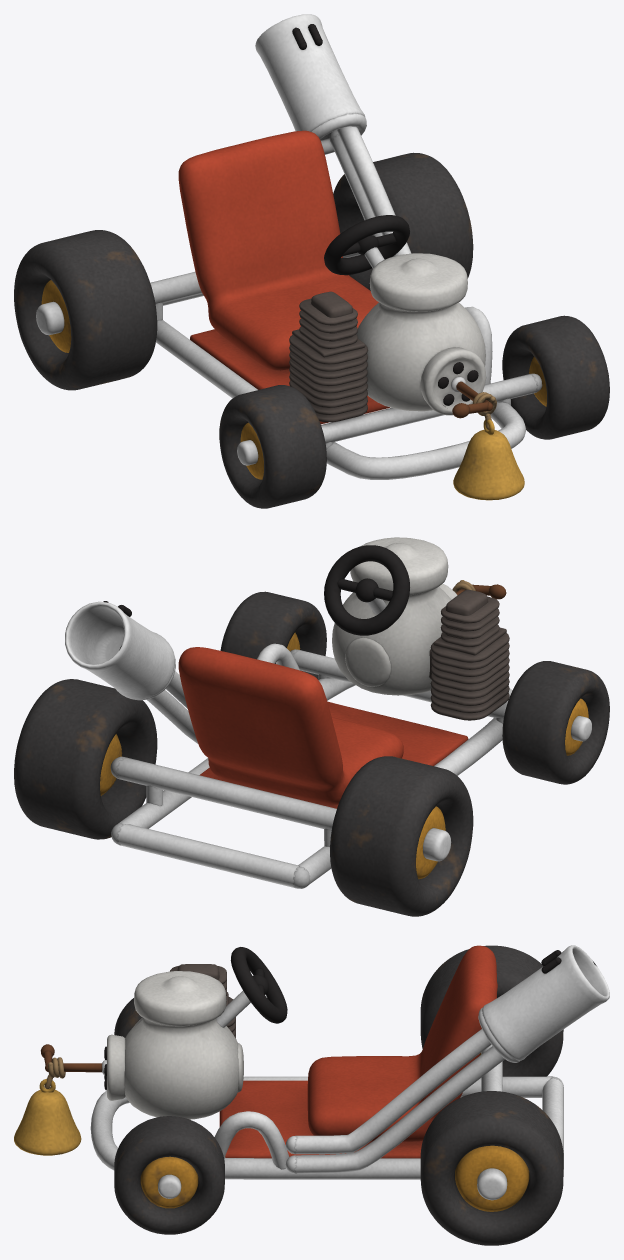
The model's file is kart.glb.
3 renders of one model, top to bottom at view 1: azimuth 30°, elevation 25°; view 2: azimuth 150°, elevation 25°; view 3: azimuth 270°, elevation 25°, orthographic. The views are drawn at different scales.
Parts seen in each view (by area): view 1: body, wheel_RR, wheel_FR, wheel_FL, wheel_RL, bell, steering_wheel; view 2: body, wheel_RR, wheel_RL, wheel_FR, wheel_FL, steering_wheel; view 3: body, wheel_RL, wheel_FL, wheel_RR, bell, steering_wheel, wheel_FR.
Part boxes in pixels (<box>): body: <box>150,14,542,479</box>; wheel_RR: <box>14,230,157,390</box>; wheel_FR: <box>219,385,326,508</box>; wheel_FL: <box>502,315,609,439</box>; wheel_RL: <box>333,152,473,290</box>; bell: <box>453,413,524,500</box>; steering_wheel: <box>324,215,409,275</box>; body: <box>65,537,512,888</box>; wheel_RR: <box>330,756,473,916</box>; wheel_RL: <box>14,679,157,839</box>; wheel_FR: <box>502,661,609,784</box>; wheel_FL: <box>220,591,326,679</box>; steering_wheel: <box>324,545,409,635</box>; body: <box>40,945,609,1179</box>; wheel_RL: <box>420,1091,563,1245</box>; wheel_FL: <box>114,1116,224,1234</box>; wheel_RR: <box>420,945,563,1076</box>; bell: <box>14,1075,81,1155</box>; steering_wheel: <box>230,947,287,1023</box>; wheel_FR: <box>114,998,142,1037</box>.
Size of the model in its own units: 1.23 by 0.7862 by 1.66.
1 material, 1 textured.
